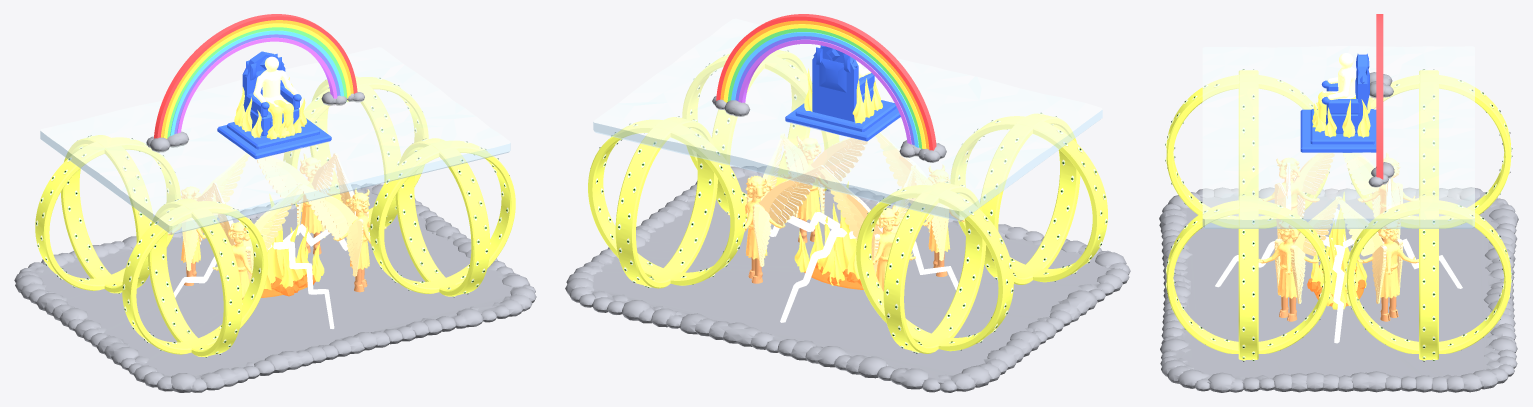
The model's file is carro-celeste.glb.
3 views of the same model, side by side, from view 1: azimuth 30°, elevation 25°; view 2: azimuth 150°, elevation 25°; view 3: azimuth 270°, elevation 25° (orthographic). The views are drawn at different scales.
Visible parts, largest first — view 1: base, distesa, ruota_4, ruota_3, ruota_2, arcobaleno, ruota_1, trono, fuoco, cherubino_4, cherubino_1, figura (+2 smaller); view 2: base, distesa, ruota_1, ruota_2, ruota_3, arcobaleno, trono, fuoco, ruota_4, cherubino_1, cherubino_4, cherubino_2 (+2 smaller); view 3: distesa, base, ruota_4, ruota_1, ruota_3, ruota_2, trono, fuoco, cherubino_4, cherubino_1, cherubino_3, figura (+2 smaller).
Boxes of the visible parts, <box> form: base: <box>14,183,536,392</box>; distesa: <box>40,47,510,234</box>; ruota_4: <box>370,138,515,297</box>; ruota_3: <box>122,198,267,357</box>; ruota_2: <box>35,135,180,293</box>; arcobaleno: <box>146,14,364,152</box>; ruota_1: <box>283,76,428,231</box>; trono: <box>217,51,331,159</box>; fuoco: <box>173,194,370,328</box>; cherubino_4: <box>297,153,386,292</box>; cherubino_1: <box>257,153,338,254</box>; figura: <box>234,56,306,139</box>; base: <box>565,166,1130,392</box>; distesa: <box>593,18,1102,221</box>; ruota_1: <box>588,116,745,288</box>; ruota_2: <box>856,181,1013,353</box>; ruota_3: <box>950,113,1107,284</box>; arcobaleno: <box>712,14,946,162</box>; trono: <box>785,45,900,141</box>; fuoco: <box>745,181,958,322</box>; ruota_4: <box>682,50,839,218</box>; cherubino_1: <box>728,133,824,283</box>; cherubino_4: <box>780,134,867,243</box>; cherubino_2: <box>818,165,915,291</box>; distesa: <box>1202,46,1474,228</box>; base: <box>1159,187,1518,392</box>; ruota_4: <box>1165,194,1331,361</box>; ruota_1: <box>1345,194,1512,361</box>; ruota_3: <box>1165,69,1329,228</box>; ruota_2: <box>1347,69,1512,228</box>; trono: <box>1300,53,1376,152</box>; fuoco: <box>1215,192,1462,343</box>; cherubino_4: <box>1258,162,1342,321</box>; cherubino_1: <box>1335,162,1418,321</box>; cherubino_3: <box>1258,153,1334,242</box>; figura: <box>1312,53,1370,137</box>.
Size of the model in its own units: 0.2348 by 0.1481 by 0.1797.
